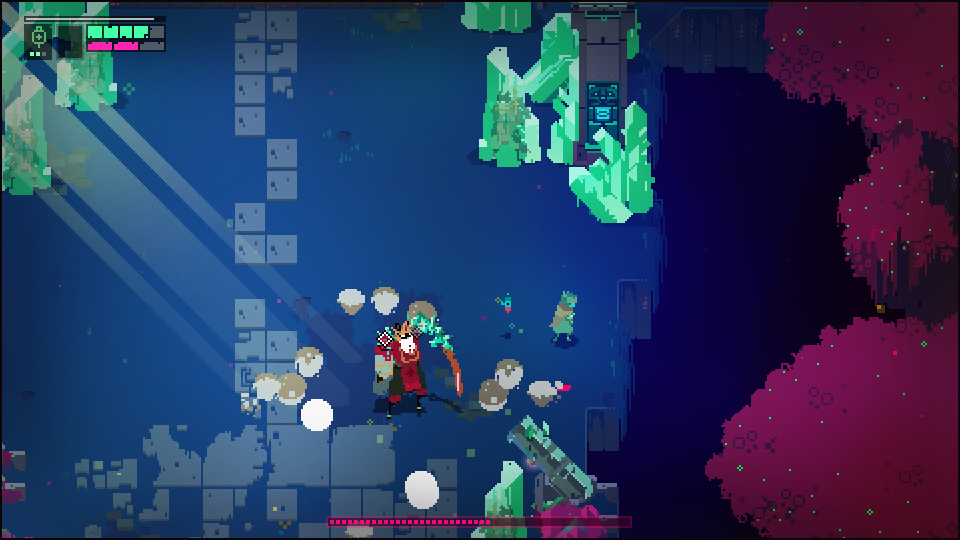hanged_man: (368, 311, 466, 410)
player: (546, 289, 579, 345)
